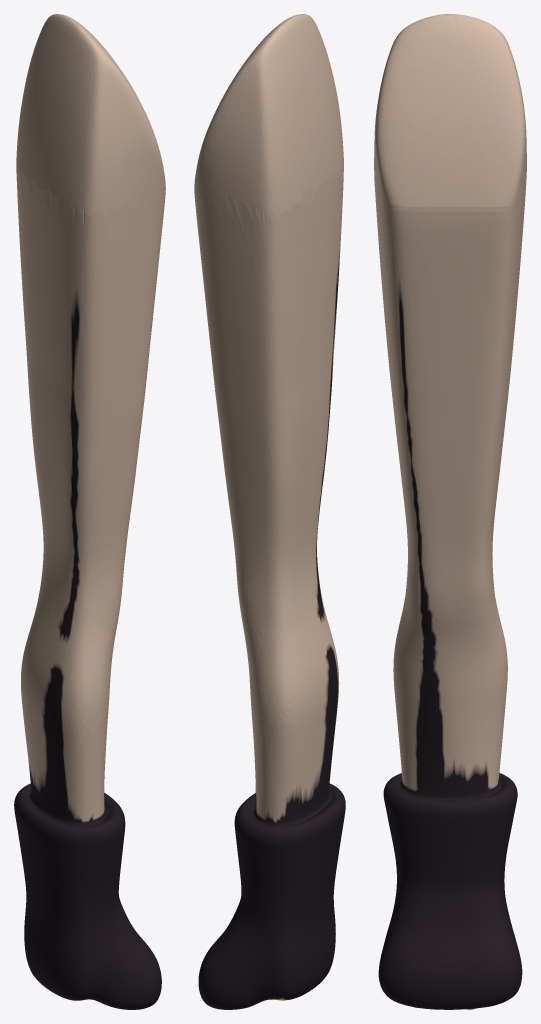
The model's file is leg_L.glb.
The picture shows the model from 3 angles, left to right: view 1: azimuth 30°, elevation 25°; view 2: azimuth 150°, elevation 25°; view 3: azimuth 270°, elevation 25°; orthographic projection.
Parts seen in each view (by area): view 1: geometry_0; view 2: geometry_0; view 3: geometry_0.
Boxes of the visible parts, <box> form: geometry_0: <box>14,14,165,1009</box>; geometry_0: <box>194,14,345,1009</box>; geometry_0: <box>374,14,526,1009</box>.
Size of the model in its own units: 0.1618 by 1.33 by 0.1912.
